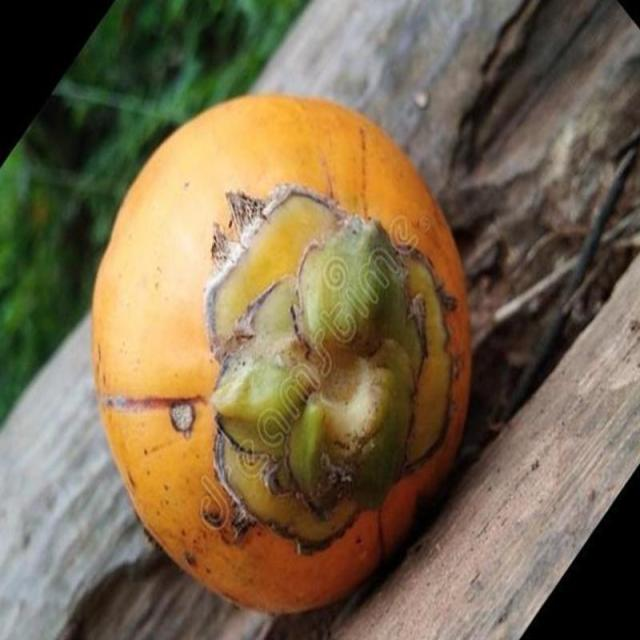good: (90, 94, 472, 619)
